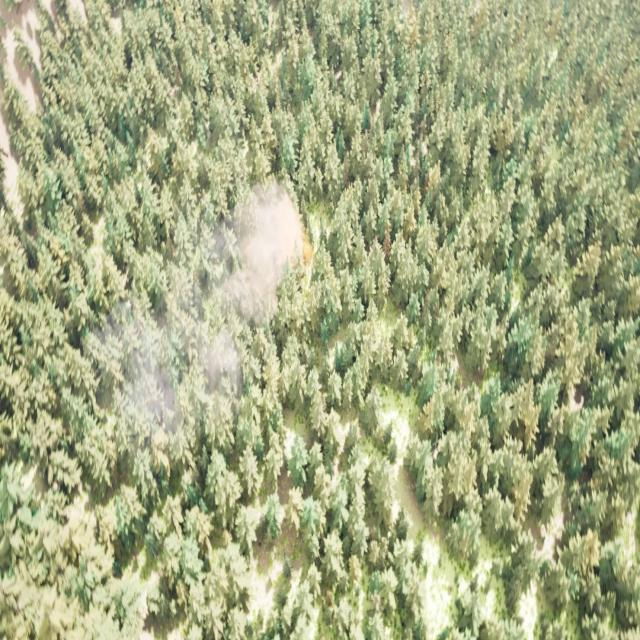smoke: (117, 180, 306, 440)
